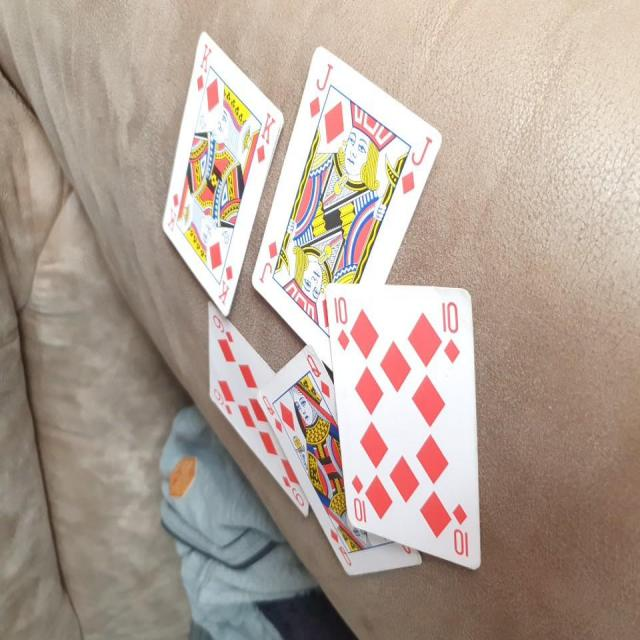10 Diamonds: (322, 283, 483, 569)
9 Diamonds: (206, 298, 311, 520)
J Diamonds: (250, 44, 443, 369)
K Diamonds: (160, 32, 286, 320)
Q Diamonds: (255, 345, 427, 579)
